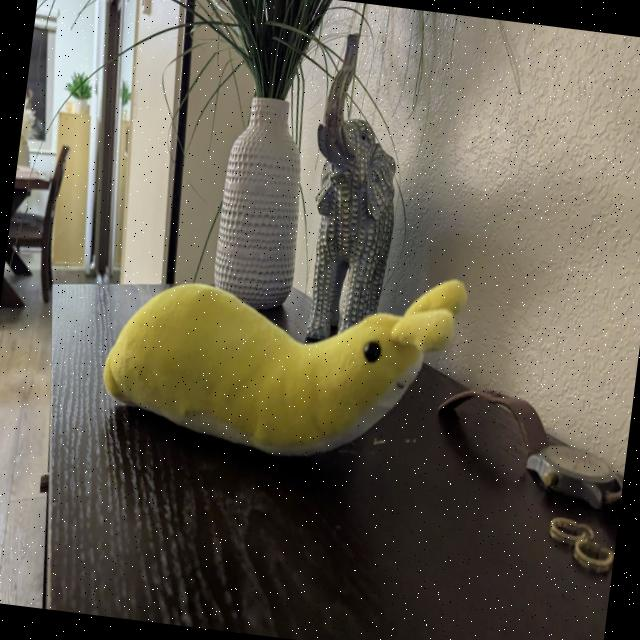banana-slug-toy: (91, 213, 476, 484)
